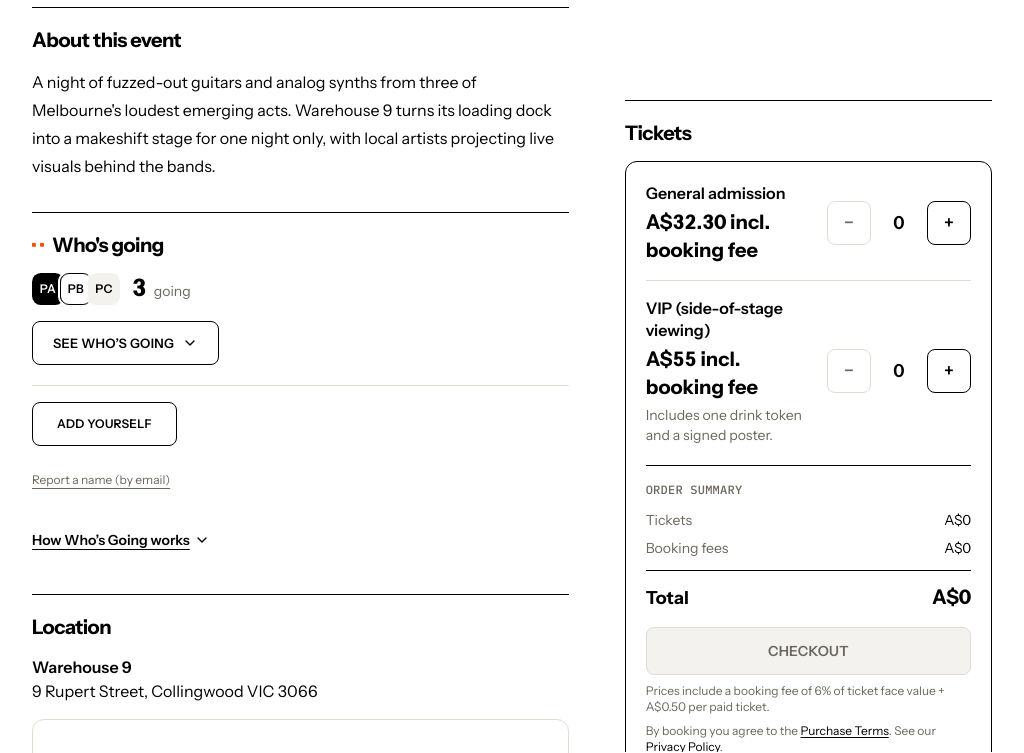
Test: Who's Going — signed in › eligible, first time (the opt-in form) › opens a labelled form, focuses the name, and keeps every control keyboard-reachable
The image size is (1024, 753).
(page scrolled)
Click the button "Add yourself": x=104, y=424 top-left (32, 402), bottom-right (177, 446)
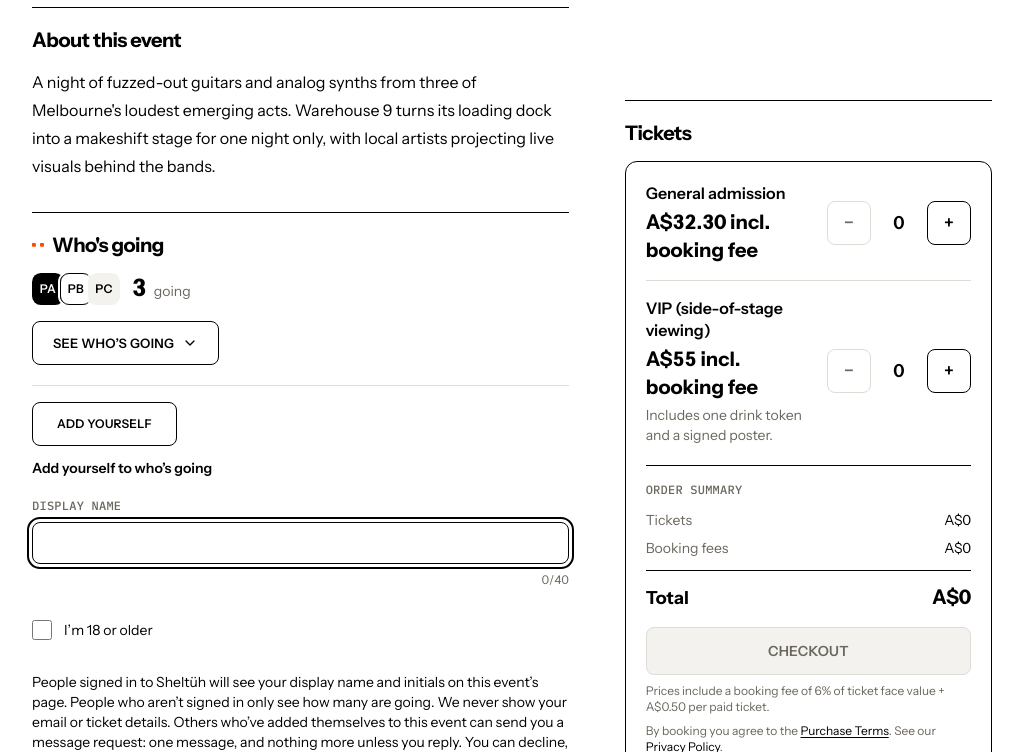
Expected: the field labelled "Display name" is enabled
Expected: the checkbox labelled "I’m 18 or older" is enabled, top-left (32, 620), bottom-right (52, 640)
In the field labelled "Display name": x=300, y=543 top-left (32, 522), bottom-right (569, 564), type "Mia"
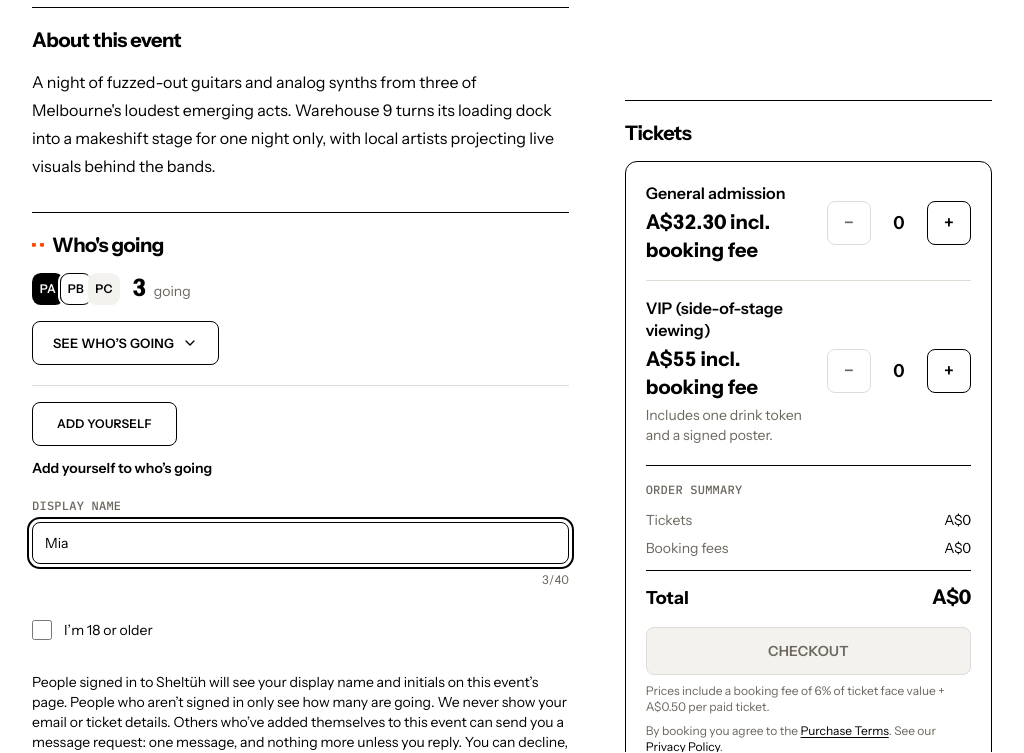
Expected: the text "3/40" is shown, top-left (542, 572), bottom-right (569, 588)
